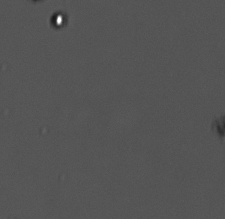Living Cell: (49, 10, 67, 29)
